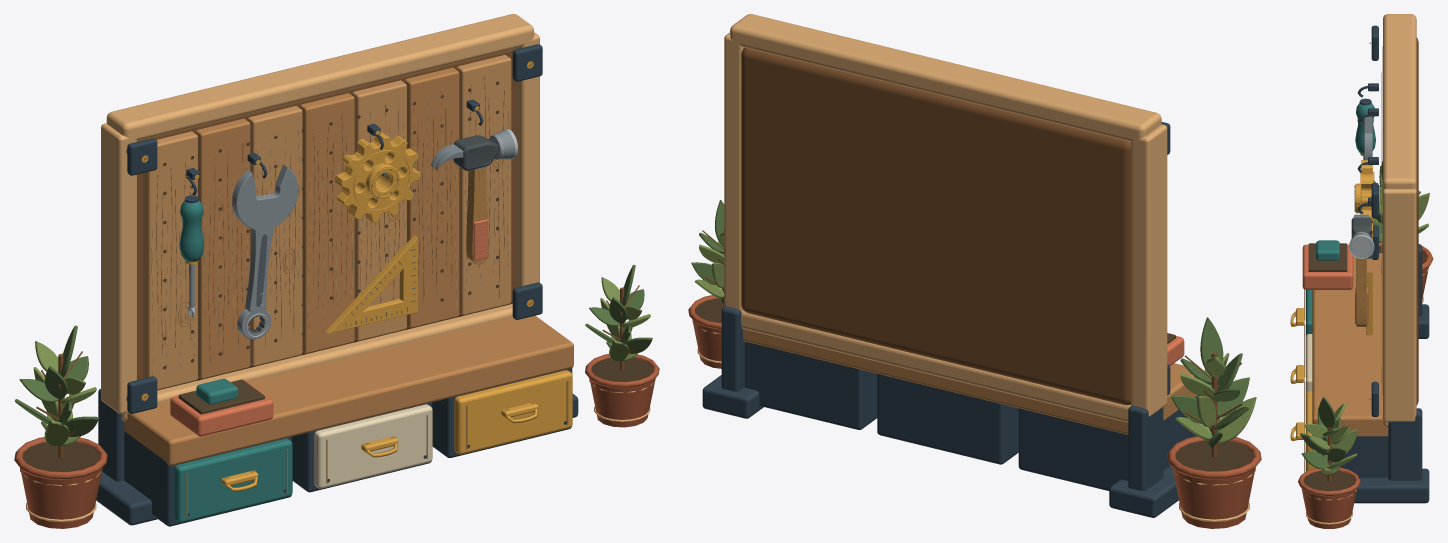
File: workshop-tool-rack-final.glb
3 views of the same model, side by side, from view 1: azimuth 30°, elevation 25°; view 2: azimuth 150°, elevation 25°; view 3: azimuth 270°, elevation 25° (orthographic). The views are drawn at different scales.
Parts seen in each view (by area): view 1: timber, plank, edge, brass (×3), navy, pot (×2), teal, cream, grain, steel, darkWood, grainLight (+6 smaller); view 2: darkWood, edge, navy, pot (×2), timber, soil, Leaf_8, Leaf_1; view 3: edge, timber, navy, pot (×2), brass (×3), coral, darkWood, teal, soil, Wood_Handle, shadow, Teal_Handle (+13 smaller).
Boxes of the visible parts, x1=… form: timber: x1=124, y1=67, x2=573, y2=465; plank: x1=143, y1=55, x2=511, y2=389; edge: x1=101, y1=14, x2=539, y2=421; brass (×3): x1=141, y1=61, x2=572, y2=491; navy: x1=96, y1=44, x2=578, y2=526; pot (×2): x1=14, y1=354, x2=659, y2=528; teal: x1=174, y1=378, x2=292, y2=522; cream: x1=314, y1=404, x2=432, y2=488; grain: x1=156, y1=77, x2=568, y2=517; steel: x1=232, y1=164, x2=298, y2=339; darkWood: x1=137, y1=48, x2=532, y2=398; grainLight: x1=151, y1=88, x2=509, y2=375; darkWood: x1=741, y1=47, x2=1130, y2=405; edge: x1=724, y1=14, x2=1167, y2=422; navy: x1=702, y1=122, x2=1199, y2=517; pot (×2): x1=688, y1=295, x2=1261, y2=528; timber: x1=743, y1=329, x2=1197, y2=434; soil: x1=1175, y1=440, x2=1253, y2=471; Leaf_8: x1=1200, y1=317, x2=1223, y2=377; Leaf_1: x1=1217, y1=397, x2=1256, y2=443; edge: x1=1383, y1=14, x2=1416, y2=427; timber: x1=1312, y1=68, x2=1388, y2=436; navy: x1=1315, y1=25, x2=1429, y2=503; pot (×2): x1=1298, y1=242, x2=1433, y2=528; brass (×3): x1=1290, y1=160, x2=1379, y2=471; coral: x1=1302, y1=244, x2=1353, y2=289; darkWood: x1=1369, y1=37, x2=1418, y2=404; teal: x1=1306, y1=240, x2=1339, y2=335; soil: x1=1303, y1=470, x2=1355, y2=490; Wood_Handle: x1=1356, y1=258, x2=1366, y2=326; shadow: x1=1308, y1=243, x2=1347, y2=271; Teal_Handle: x1=1355, y1=103, x2=1375, y2=154.
Bounding box in the file's own units: 2.04 × 1.25 × 0.5082.
